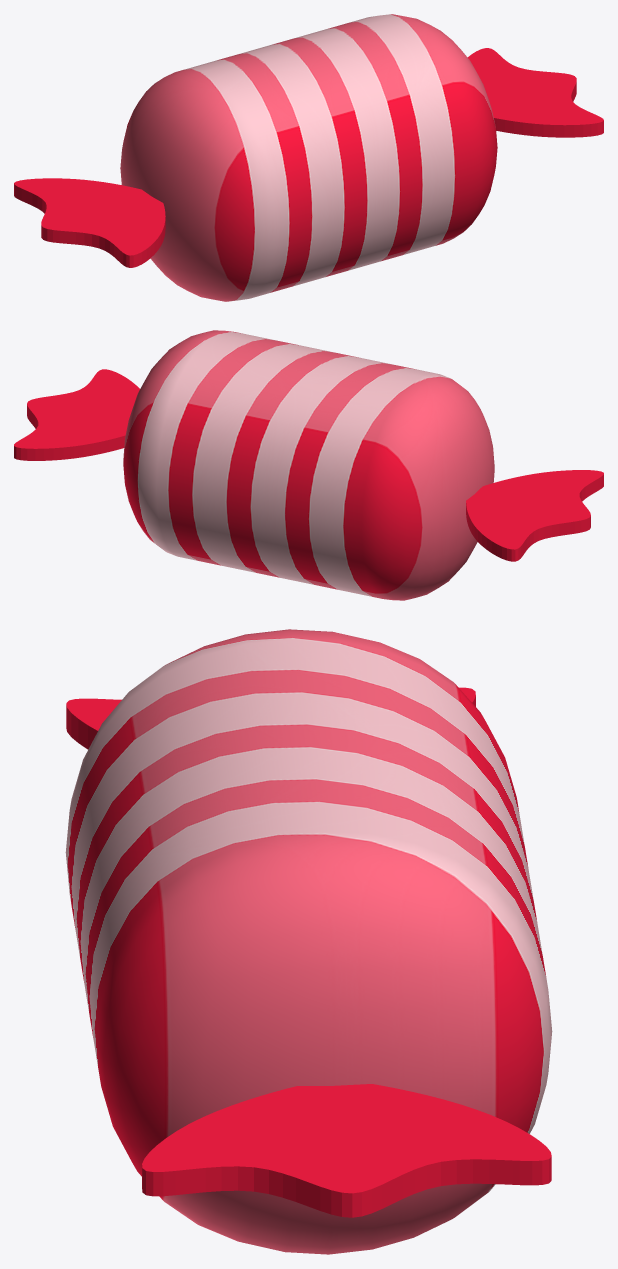
File: candy.fbx
3 renders of one model, top to bottom at view 1: azimuth 30°, elevation 25°; view 2: azimuth 150°, elevation 25°; view 3: azimuth 270°, elevation 25°, orthographic. The views are drawn at different scales.
Parts seen in each view (by area): view 1: Wrap_1.006; view 2: Wrap_1.006; view 3: Wrap_1.006.
Boxes of the visible parts, left/top/right/bottom form: Wrap_1.006: left=14, top=14, right=603, bottom=301; Wrap_1.006: left=14, top=330, right=603, bottom=600; Wrap_1.006: left=65, top=629, right=552, bottom=1254.
Size of the model in its own units: 114 by 41.7 by 44.49.
